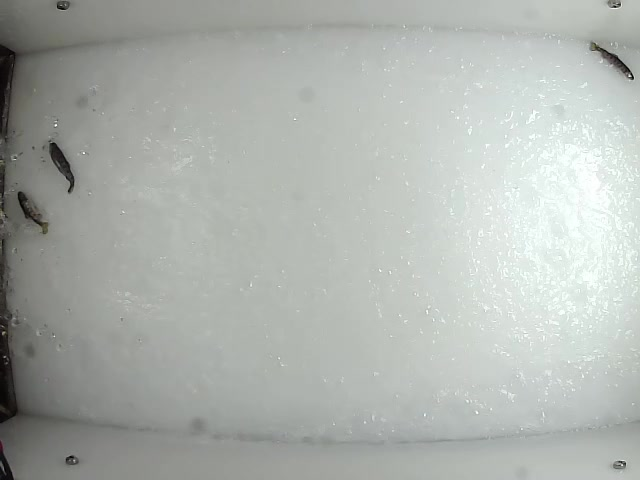fish: (587, 40, 636, 82), (46, 137, 77, 196), (16, 187, 49, 237)
